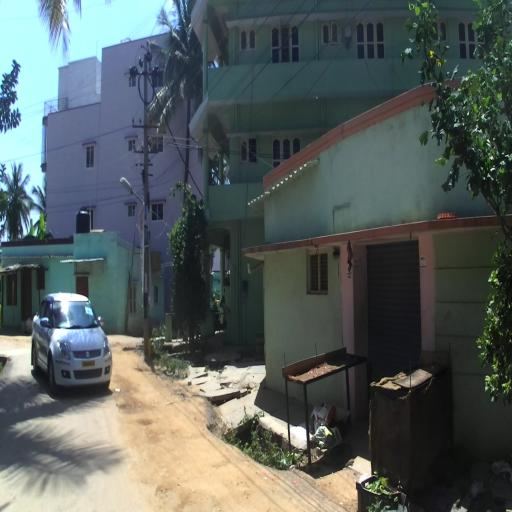street_light_0: (120, 177, 147, 205)
